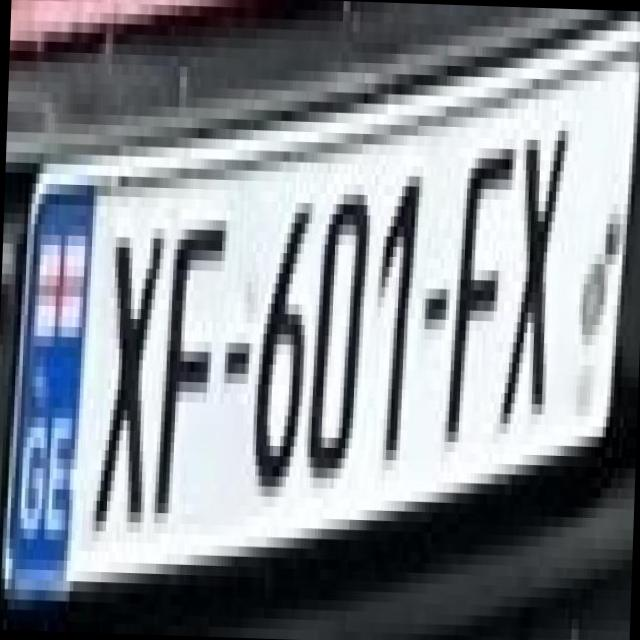0: (303, 172, 372, 479)
1: (365, 144, 431, 450)
6: (237, 170, 320, 487)
F: (433, 106, 518, 443), (144, 197, 234, 515)
X: (75, 195, 168, 522), (490, 108, 572, 435)
